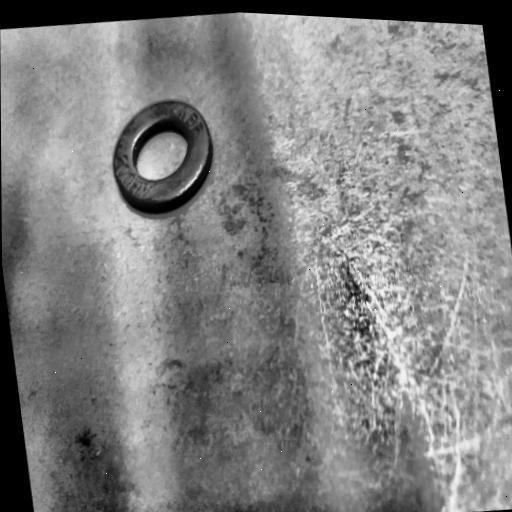Washer: (111, 99, 214, 216)
